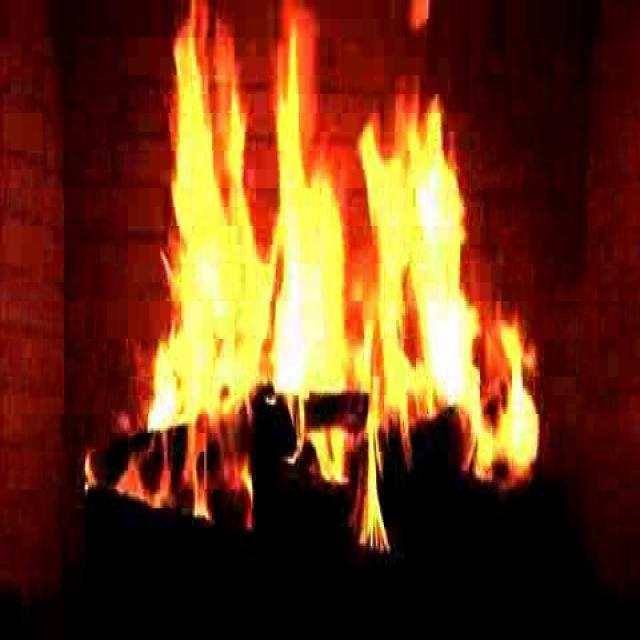fire: (133, 0, 542, 547)
